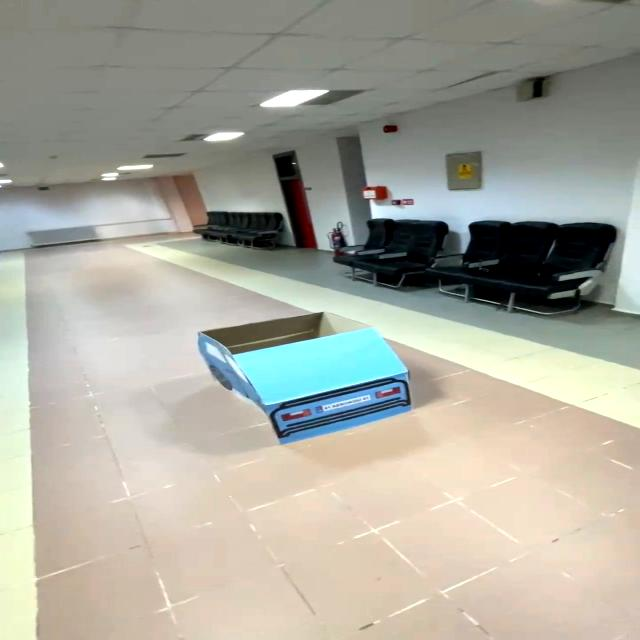blue_car: (176, 290, 432, 460)
